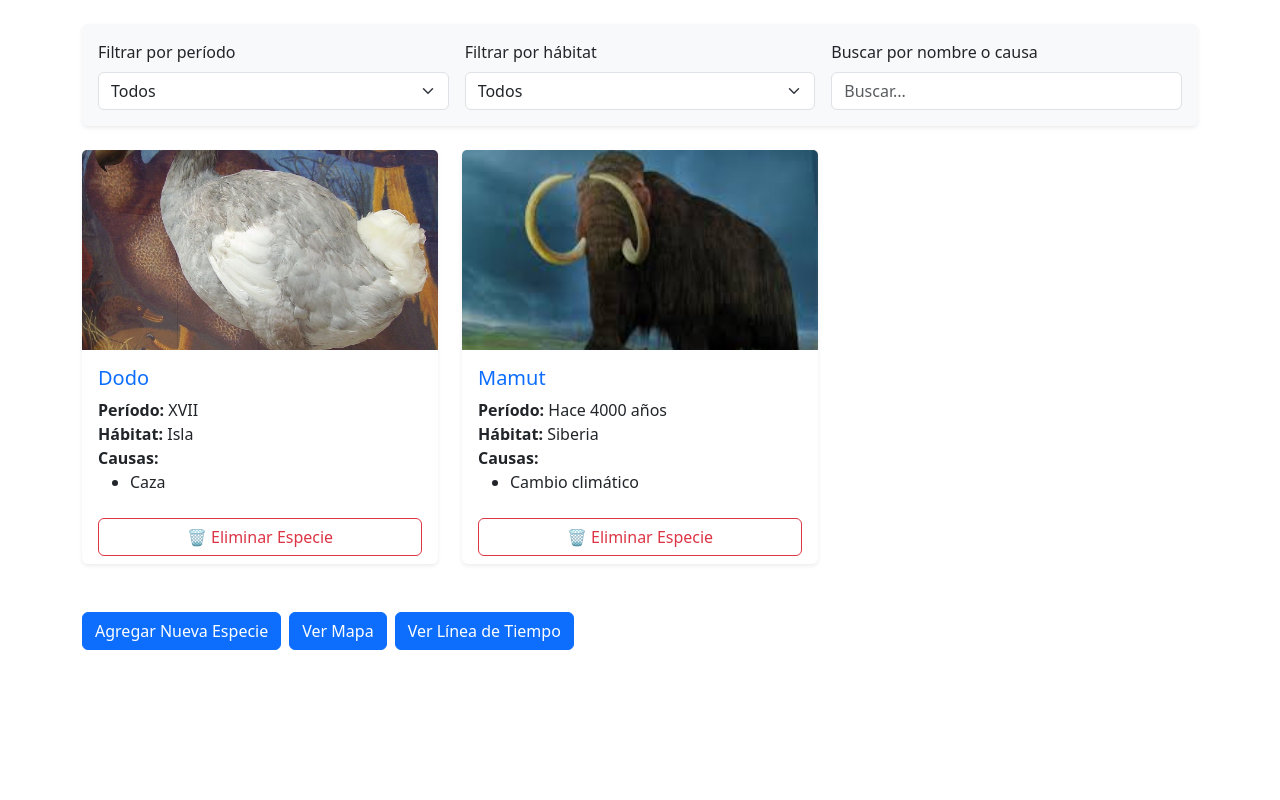
ListaEspecies › filtra por hábitat
Select "Siberia" in the dropdown labelled "Filtrar por hábitat" at [640, 91], box [465,72,815,110]
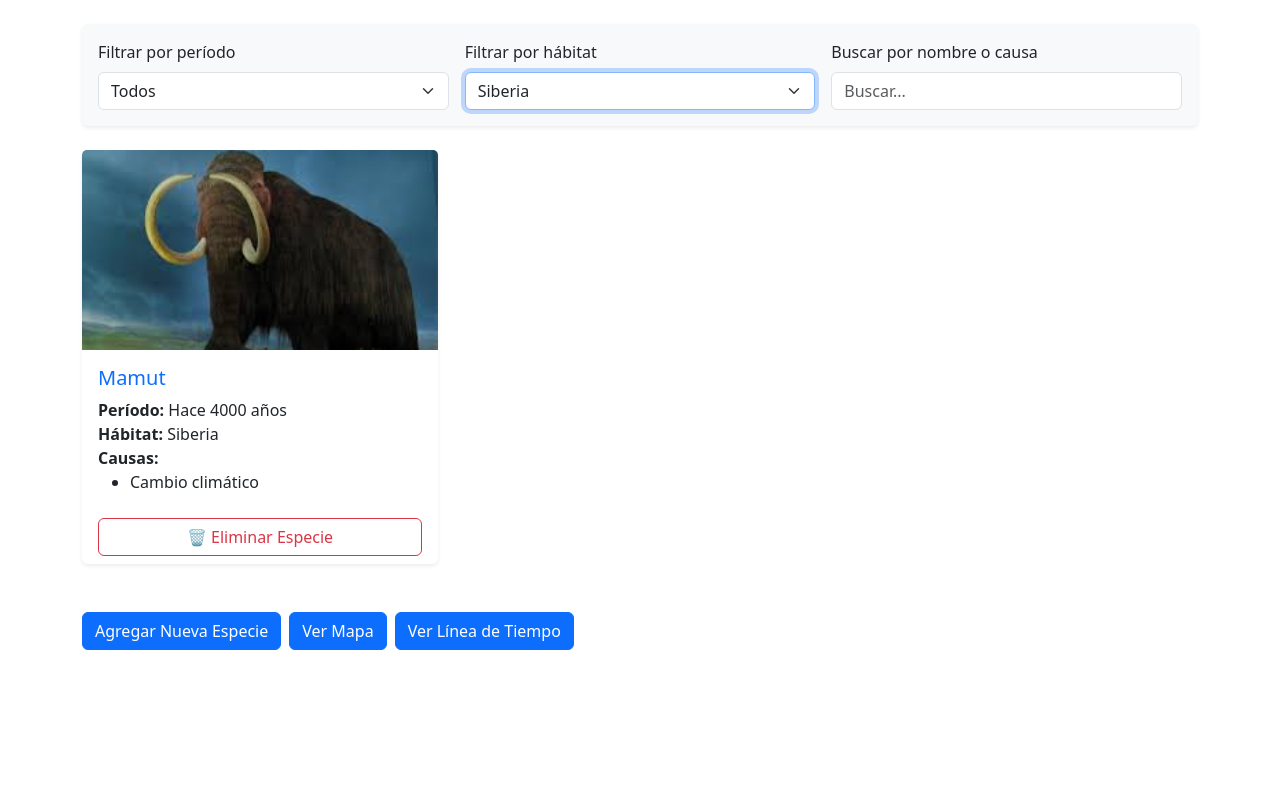
Expected: the text "Mamut" is shown, [98,364,166,391]
Now the text "Dodo" is gone
